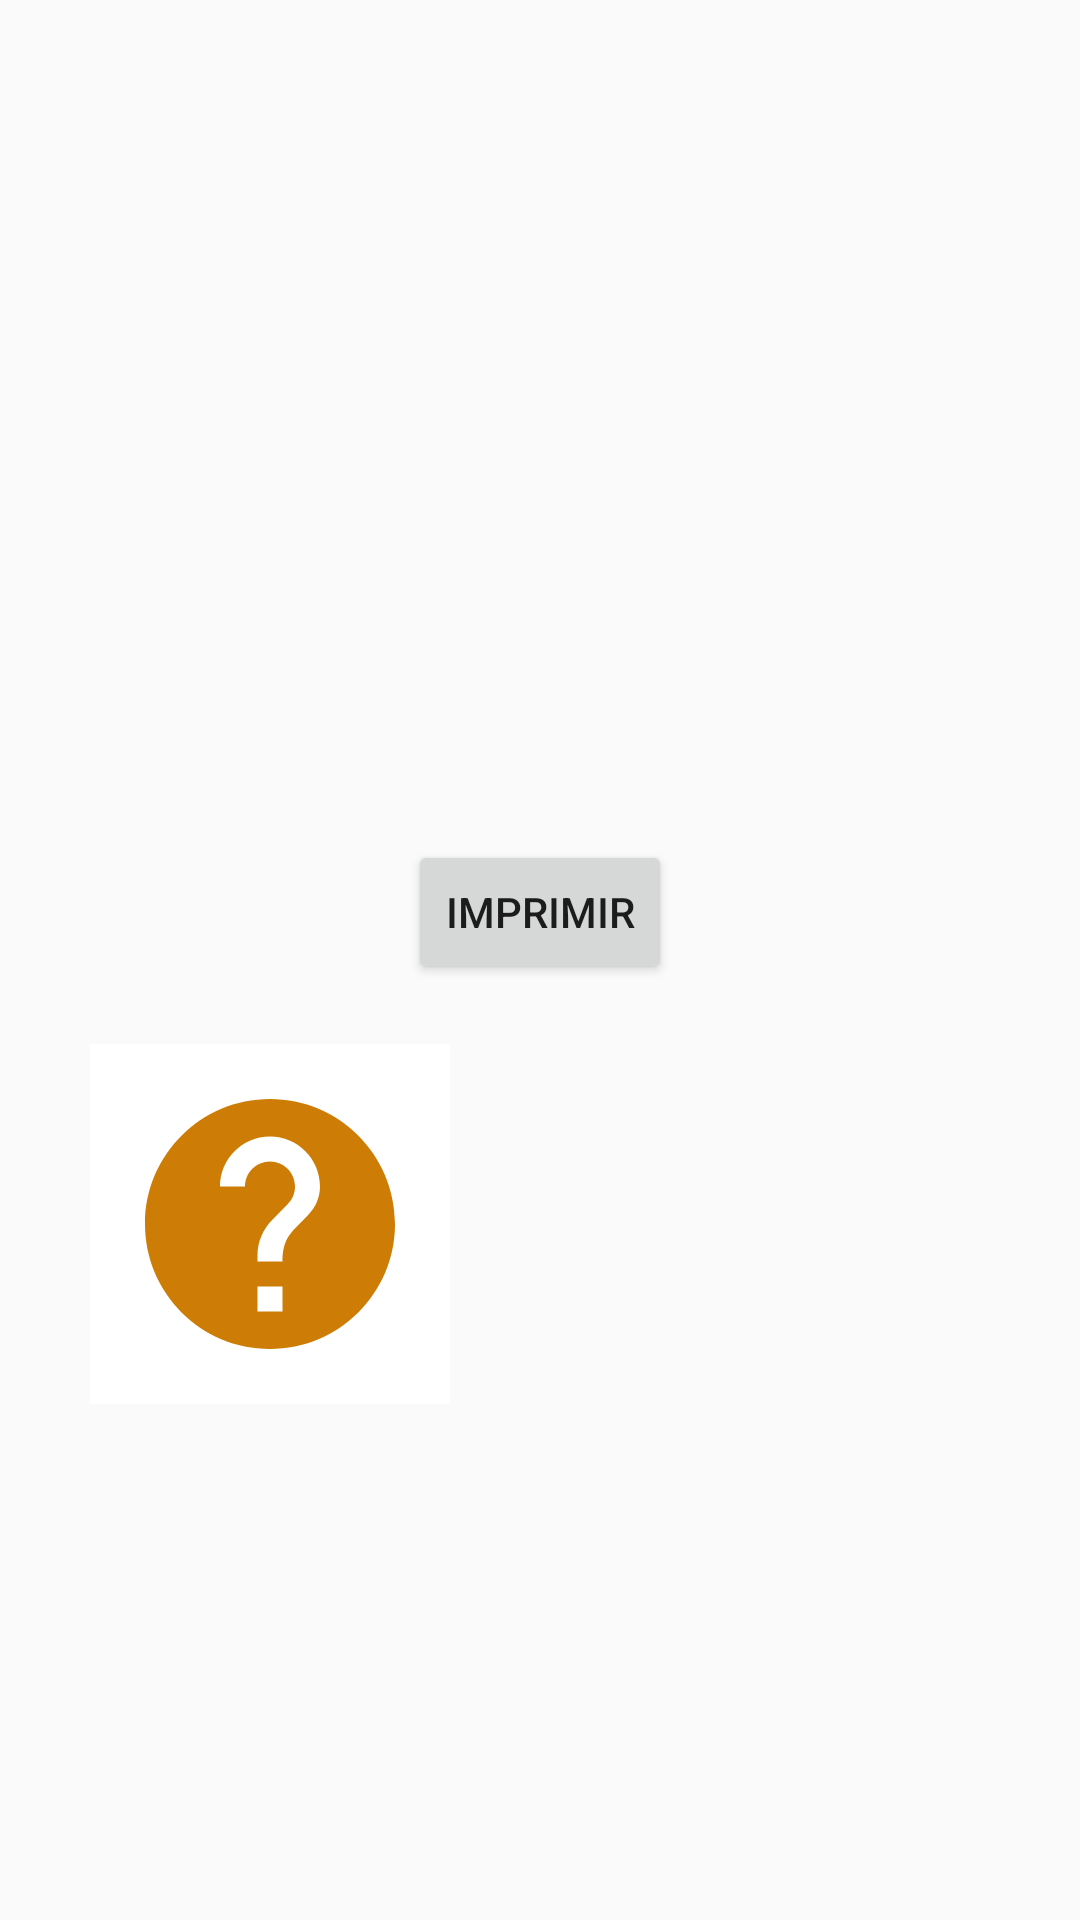

Icons on this 1080px x 1920px Android screen, each with the point to tap as (x,y):
help: (270,1224)
